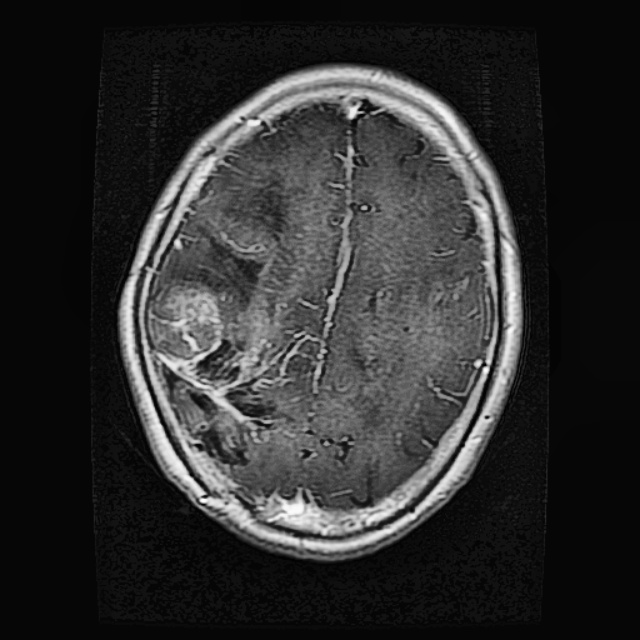Meningioma: (148, 277, 302, 465)
